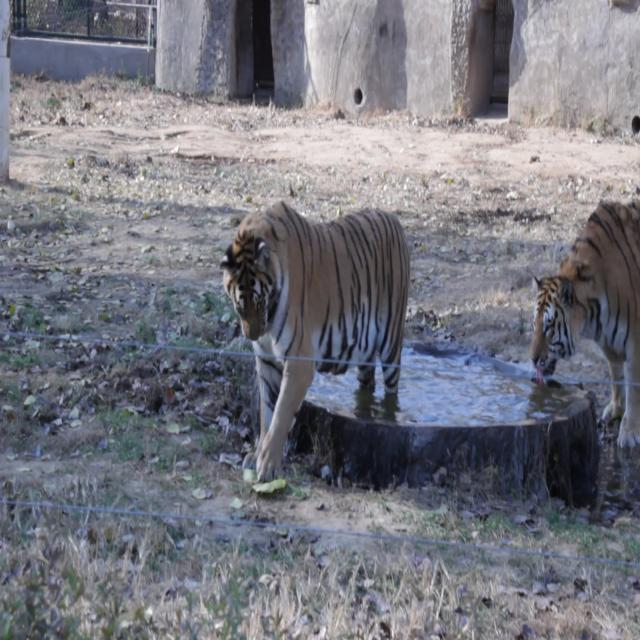Tiger: (216, 190, 439, 464)
